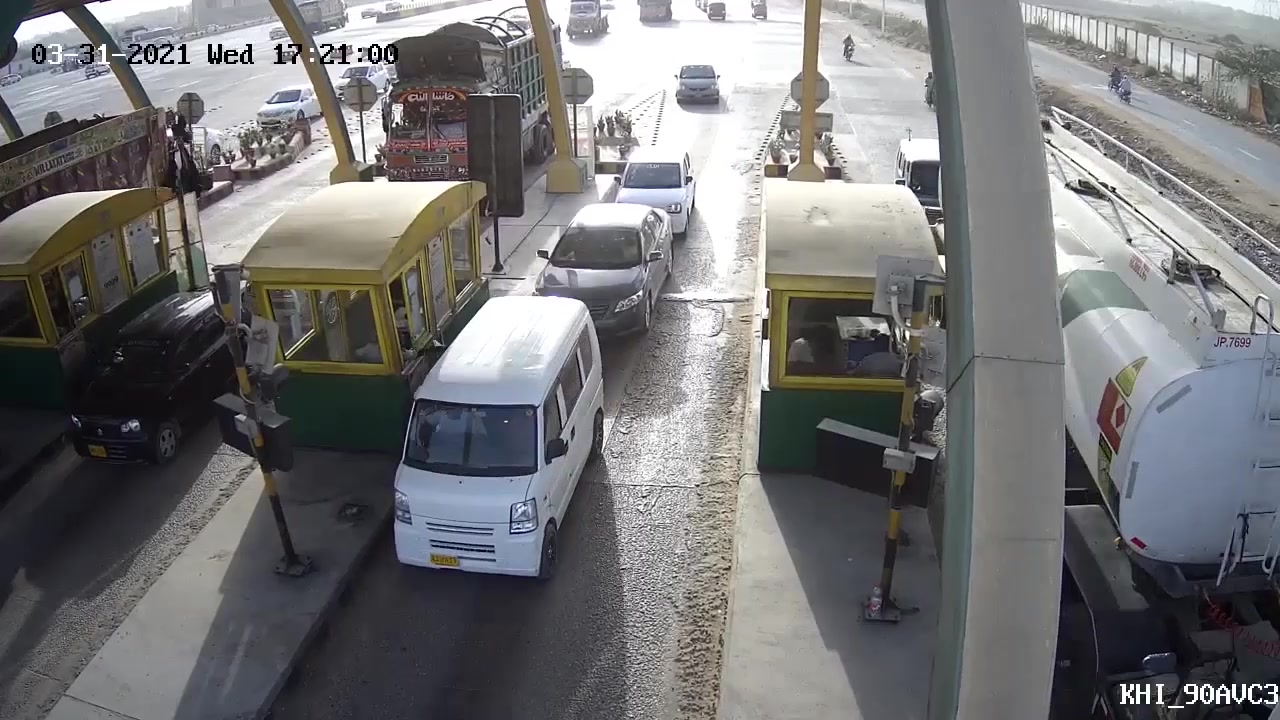F1: (356, 292, 607, 598)
